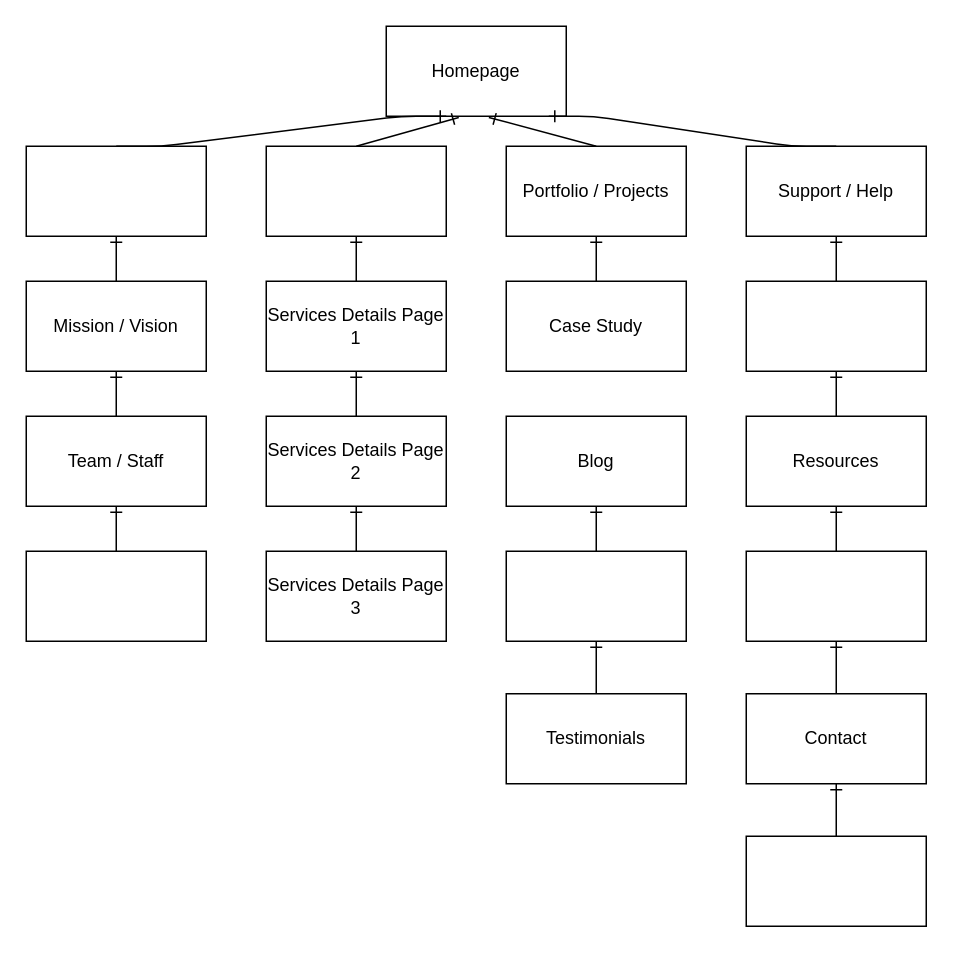
Some shapes in this 953 by 953 pixel diagram are drawn without their labels. Each missing label, with the centre of its shape:
"About Us" goes at [115,190].
"Blog Post Detail" goes at [595,595].
"FAQs" goes at [835,325].
"Pricing / Plans" goes at [115,595].
"Privacy Policy" goes at [835,595].
"Services" goes at [355,190].
"Terms and Conditions" goes at [835,880].
